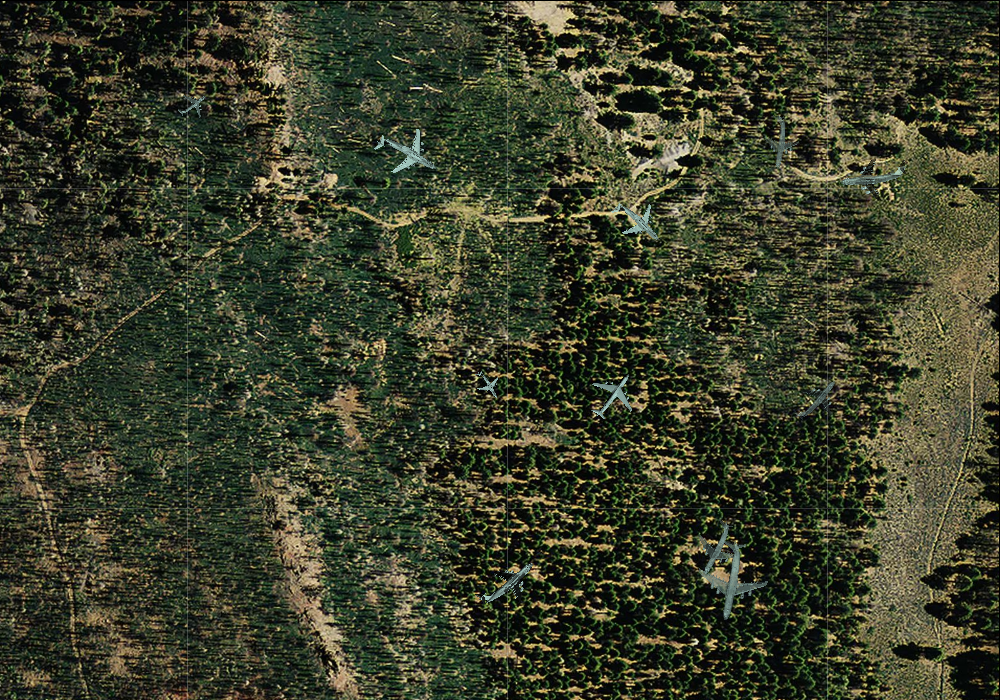plane: (685, 534, 776, 627), (363, 111, 449, 196), (463, 541, 548, 624), (679, 510, 753, 585), (600, 185, 673, 258), (577, 358, 648, 430), (782, 364, 850, 434), (837, 144, 910, 206), (752, 111, 805, 171), (171, 83, 213, 125), (467, 364, 507, 405)
